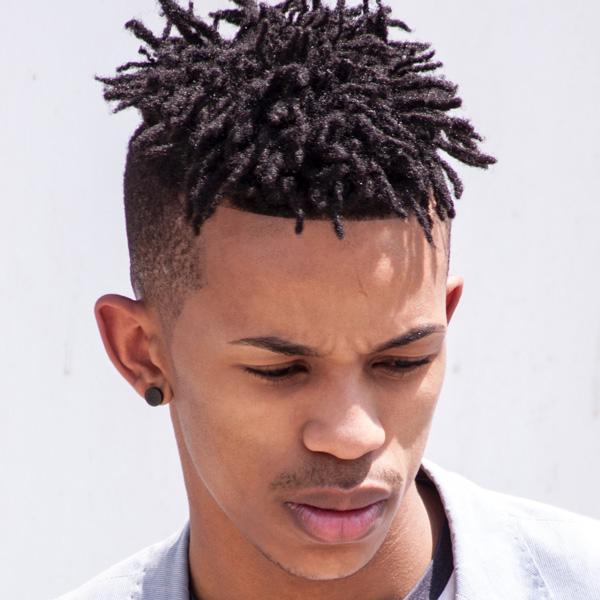Eyes: (226, 346, 317, 396), (364, 342, 441, 386)
